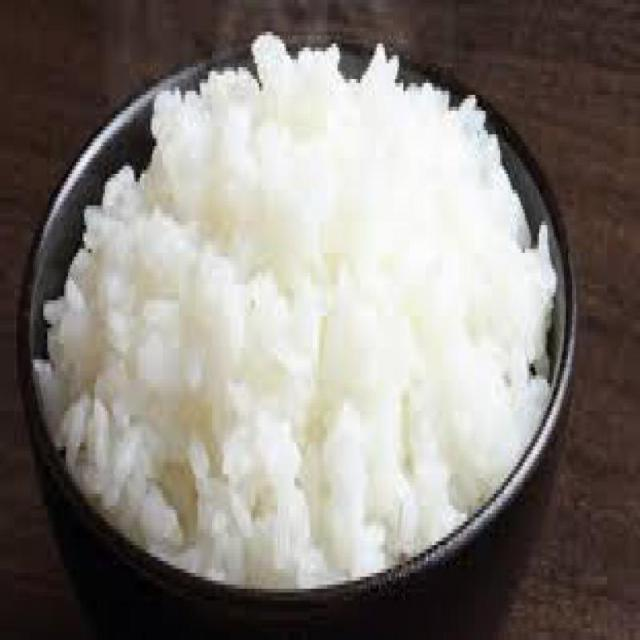nasi_putih: (35, 33, 558, 586)
